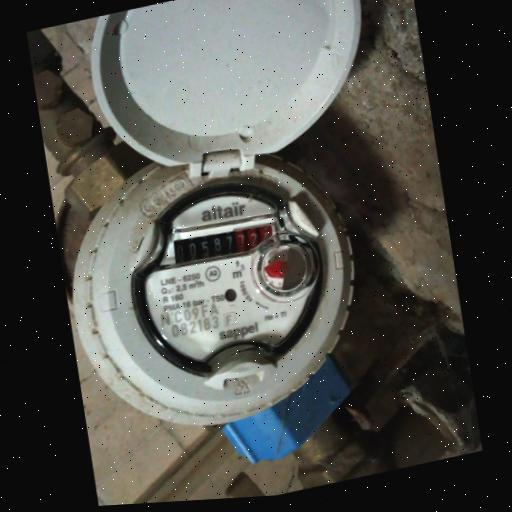0: (171, 237, 189, 264), (183, 235, 201, 262)
2: (244, 224, 261, 251)
5: (196, 234, 212, 260)
6: (258, 222, 273, 242)
7: (221, 229, 237, 256), (233, 227, 249, 253)
8: (207, 231, 224, 257)
border_water_meter_number: (167, 215, 280, 271)
